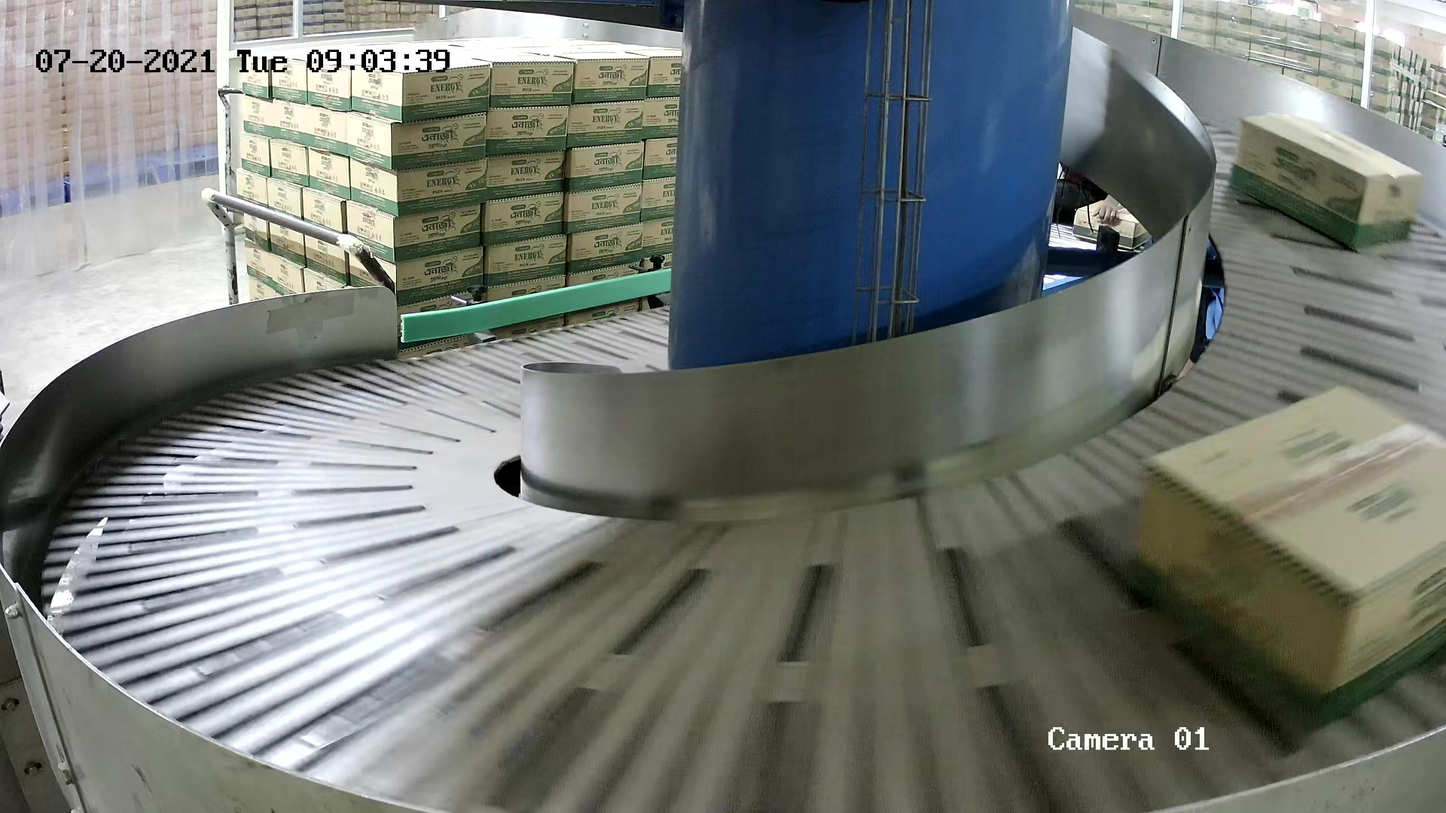Box: (1140, 381, 1446, 738), (1229, 107, 1423, 254)
